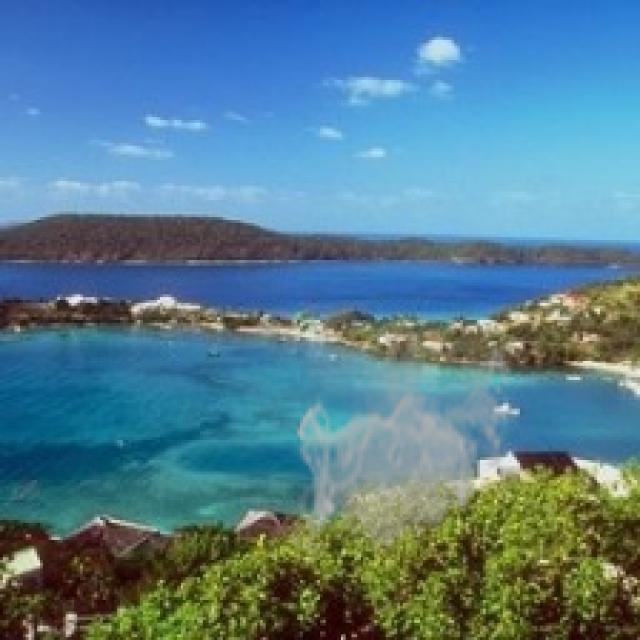smoke: (292, 314, 517, 560)
